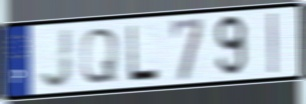7: (168, 16, 205, 83)
9: (213, 14, 249, 80)
I: (267, 10, 279, 75)
J: (38, 26, 74, 90)
L: (126, 22, 162, 83)
Q: (79, 26, 120, 85)
